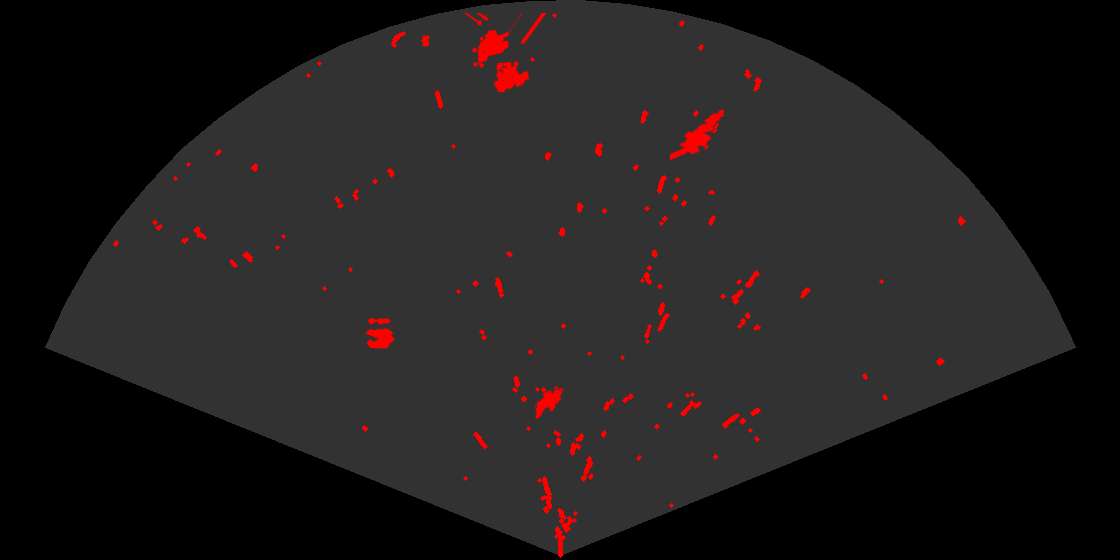AUV: (534, 387, 564, 421)
ball: (364, 317, 396, 350)
cage: (463, 13, 548, 94)
frogman: (670, 108, 726, 162)
